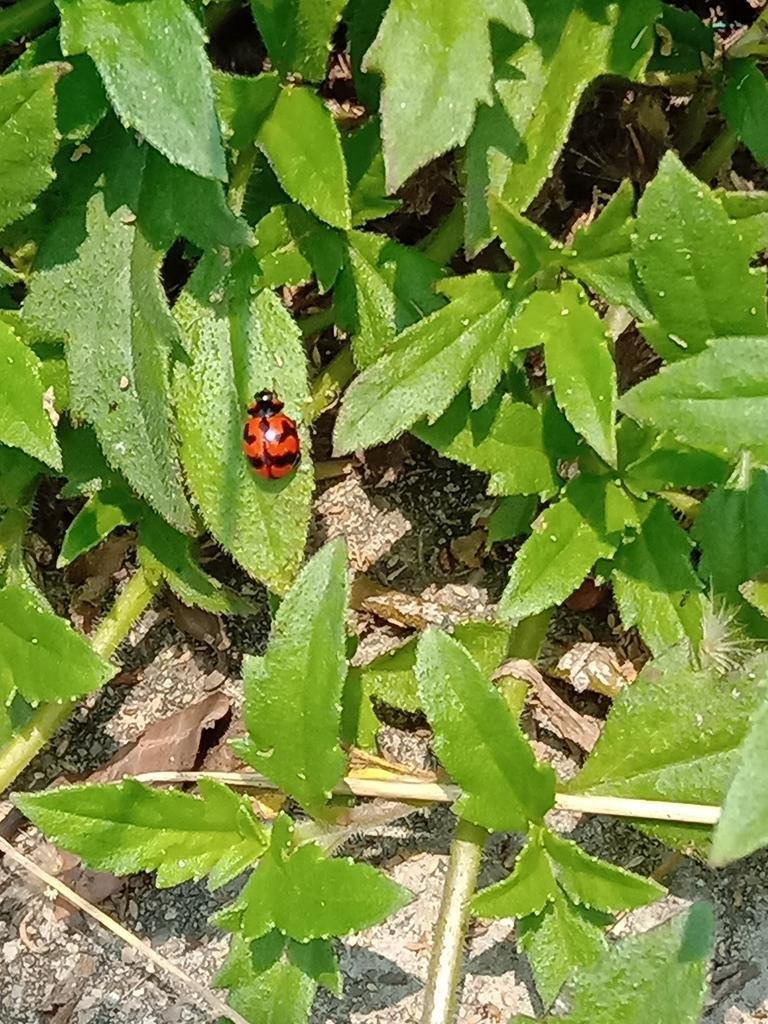ladybug: (242, 377, 306, 483)
